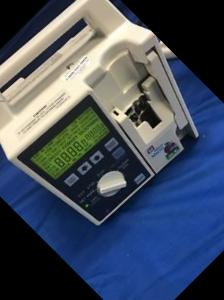plumxl1: (4, 1, 203, 225)
